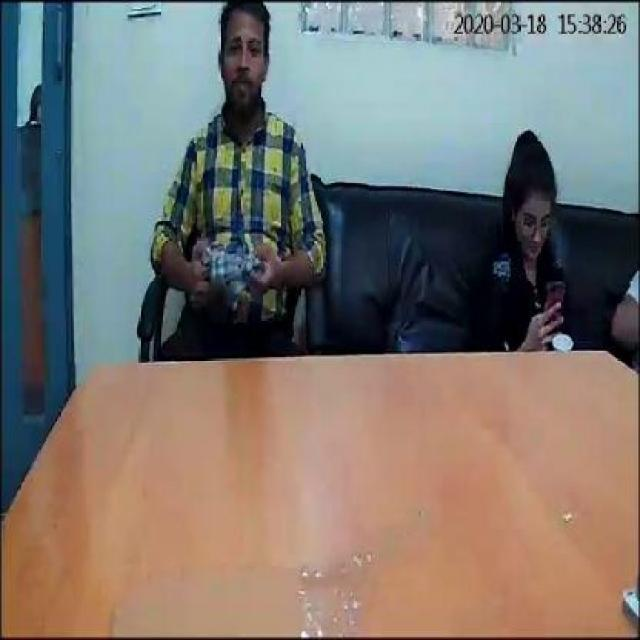spill: (106, 492, 437, 640)
